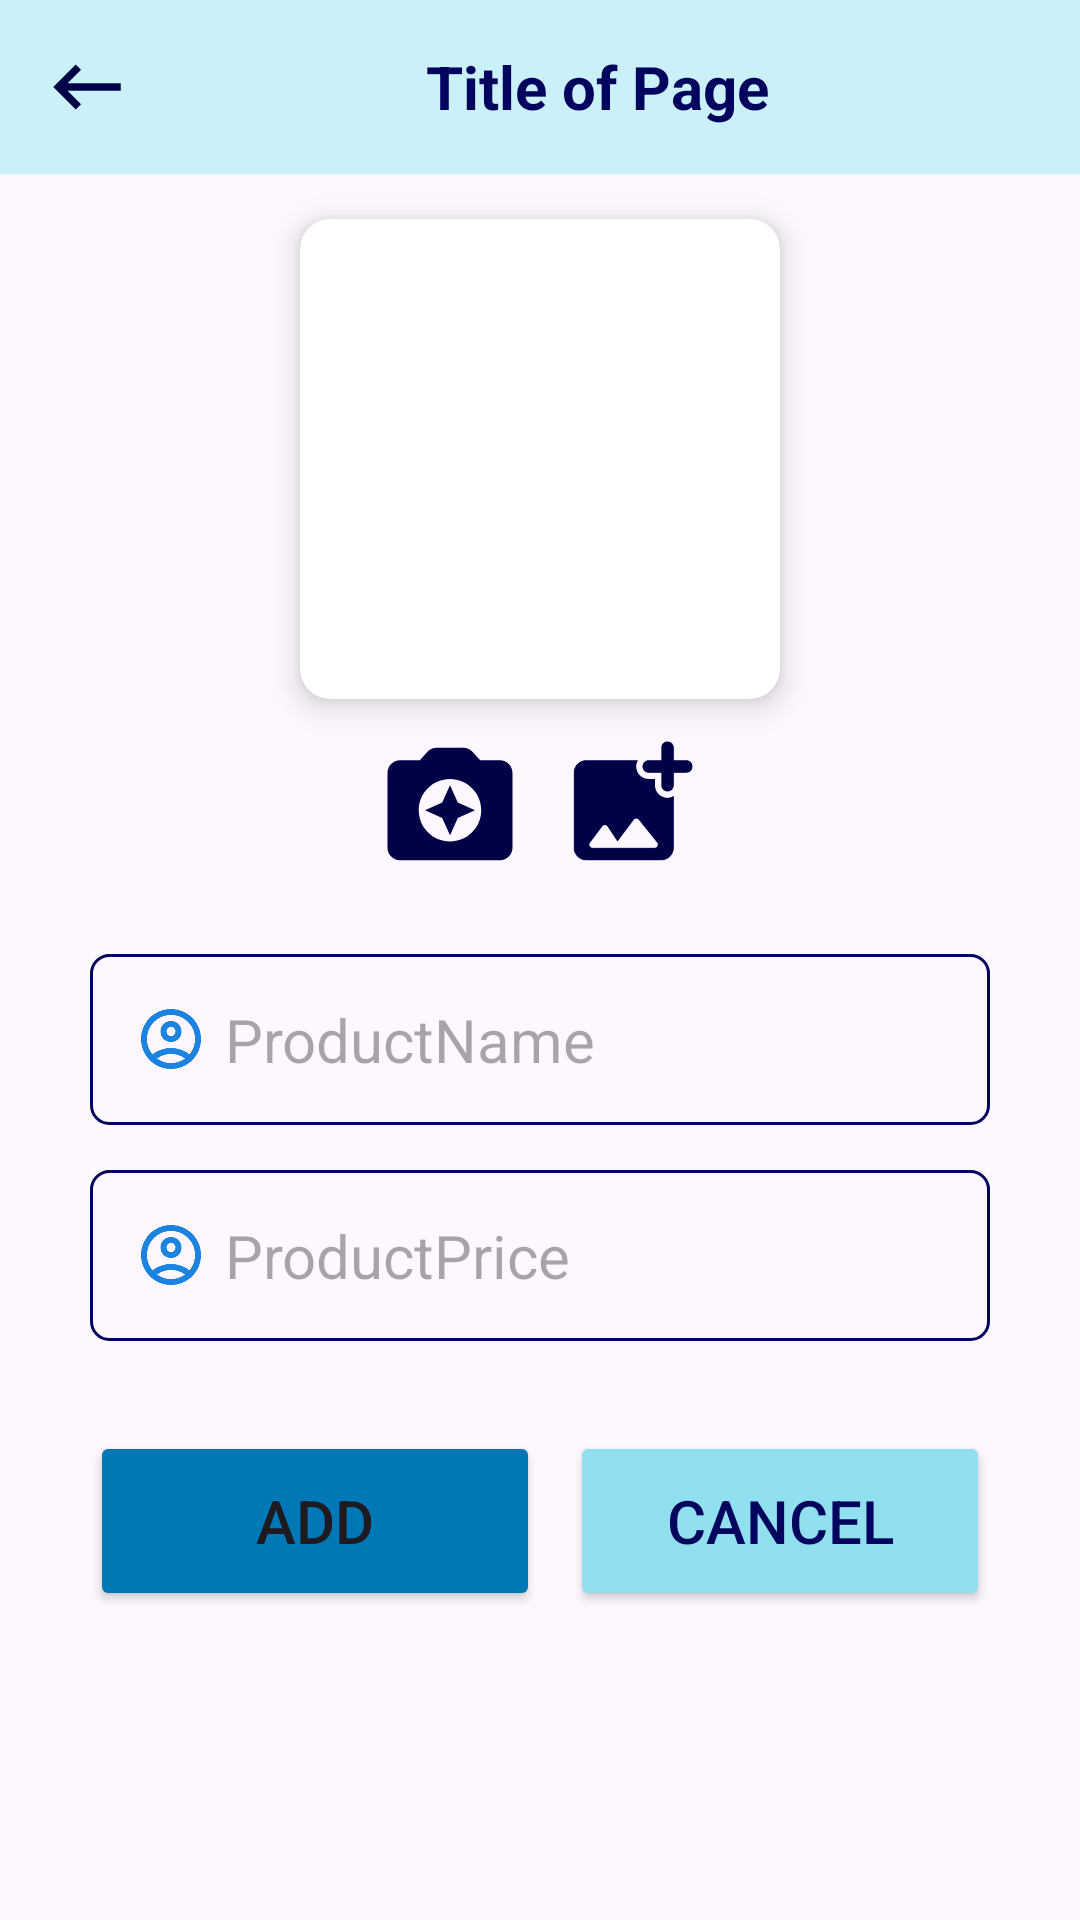

Icons on this 1080px x 1920px Android screen, each with its box as (x1, y1, x2, y2):
addphoto: (573, 741, 693, 861)
back: (53, 64, 121, 110)
camera: (387, 747, 513, 861)
